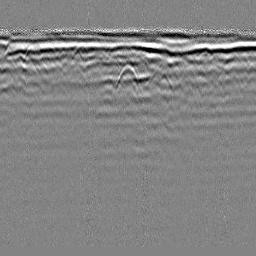cavity: (113, 63, 141, 91)
